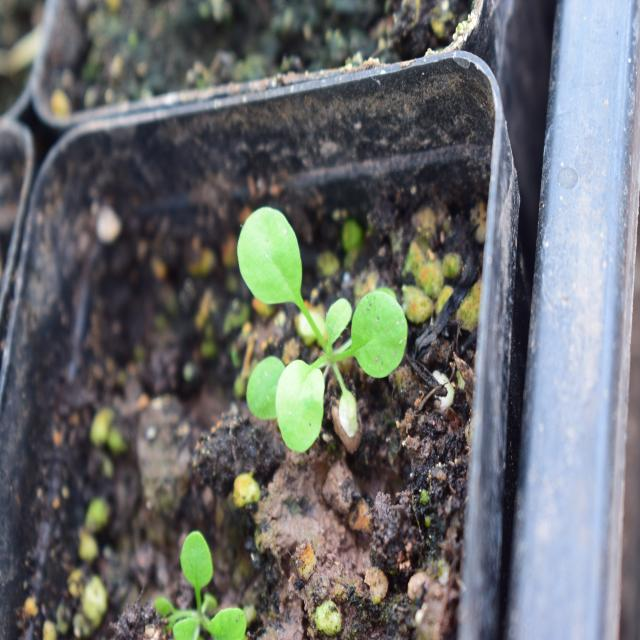Shepherd_Purse: (240, 199, 402, 456)
